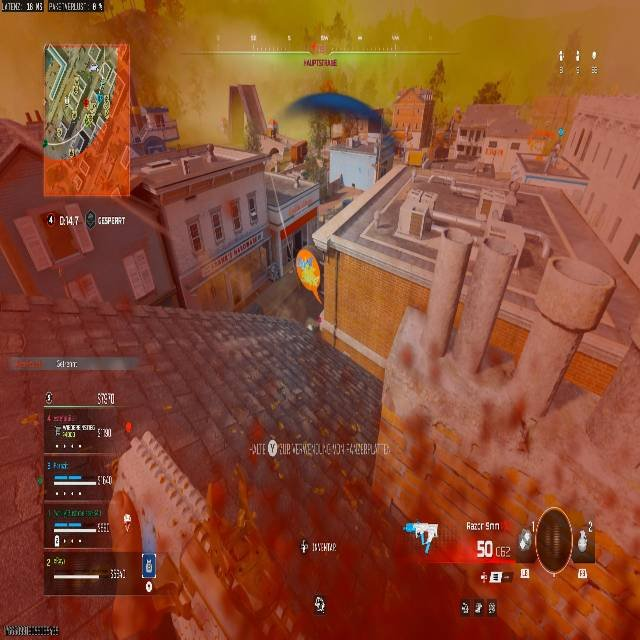player: (507, 506, 639, 639), (295, 173, 302, 188)
